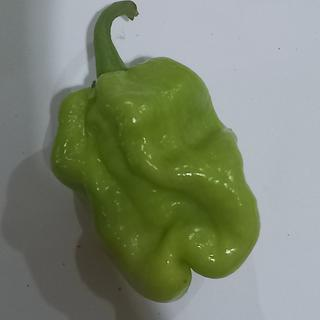Grade-A: (48, 50, 263, 303)
